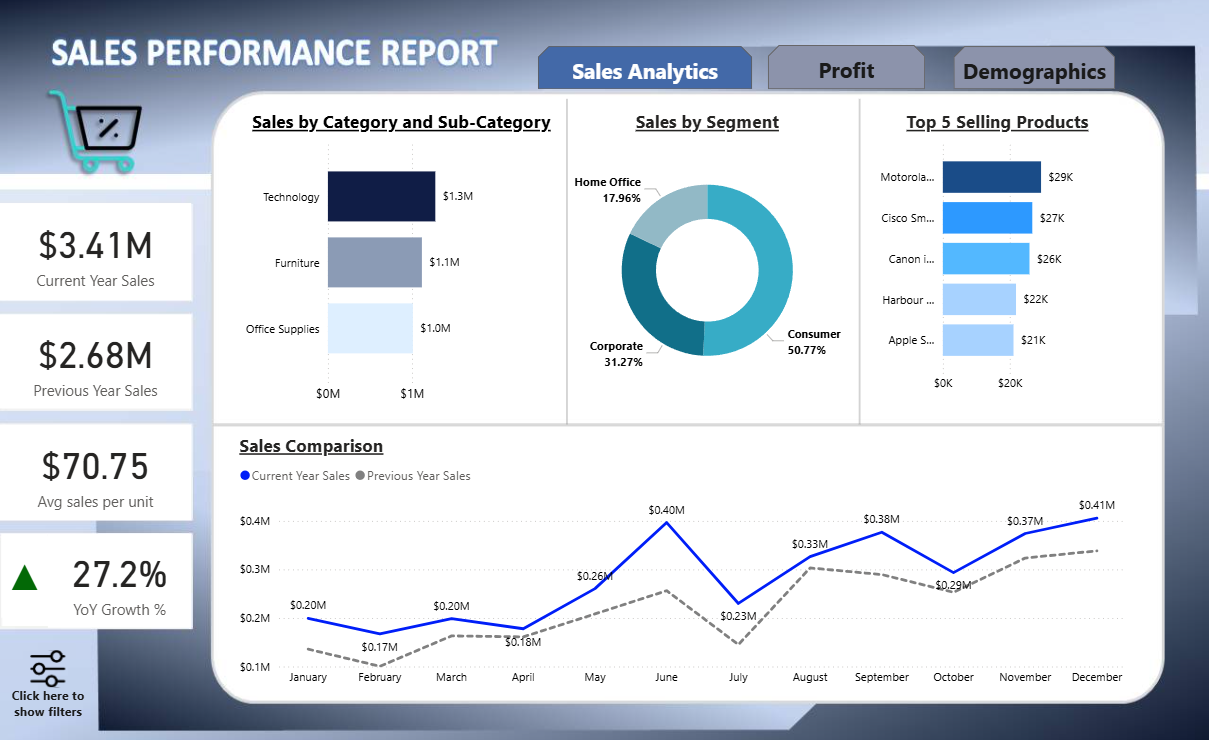

The page's visual inventory and layout, read from the dashboard file:
{"tool":"powerbi","page":{"name":"Sales Analytics","canvas":[1300,800],"ordinal":0},"visuals":[{"type":"card","fields":{"Values":["Calculation.Current Year Sales"]},"box":[0,221.8,205,104.2],"z":0},{"type":"actionButton","box":[0,717.7,36.8,39.5],"z":0,"group":"g1"},{"type":"card","fields":{"Values":["Calculation.Previous Year Sales"]},"box":[0,341.1,205,100.8],"z":1000},{"type":"shape","box":[0,680.9,322.7,108.9],"z":1000,"group":"g1"},{"type":"card","fields":{"Values":["Calculation.Avg sales per unit"]},"box":[0,459.1,205.2,102.6],"z":2000},{"type":"slicer","fields":{"Values":["globalsuperstore.Sub-Category"]},"box":[182.7,736.6,140.3,51.7],"z":2000,"group":"g1"},{"type":"card","fields":{"Values":["Calculation.YoY Growth %"]},"box":[51.7,576,153.9,100.8],"z":3000},{"type":"slicer","fields":{"Values":["globalsuperstore.Segment"]},"box":[182.1,682.3,139.8,53.9],"z":3000,"group":"g1"},{"type":"donutChart","title":" Sales by Segment","fields":{"Category":["globalsuperstore.Segment"],"Y":["Calculation.Total Sales"]},"box":[610.1,121.2,299.6,320],"z":4000},{"type":"slicer","fields":{"Values":["globalsuperstore.Category"]},"box":[43.8,736.6,140.3,51.7],"z":4000,"group":"g1"},{"type":"actionButton","box":[577.4,53.1,230.1,46.3],"z":5000},{"type":"slicer","fields":{"Values":["DateTable.Date.Variation.Date Hierarchy.Year"]},"box":[43.6,682.3,139.8,56.4],"z":5000,"group":"g1"},{"type":"actionButton","box":[825.2,51.7,168.9,47.7],"z":6000},{"type":"actionButton","box":[1024.6,52.9,173.5,46.3],"z":7000},{"type":"clusteredBarChart","title":"Sales by Category and Sub-Category","fields":{"Y":["Calculation.Total Sales"],"Category":["globalsuperstore.Category","globalsuperstore.Sub-Category"]},"box":[251.9,121.2,358.2,324.1],"z":8000},{"type":"lineChart","title":"Sales Comparison","fields":{"Category":["DateTable.Date.Variation.Date Hierarchy.Month"],"Y":["Calculation.Current Year Sales","Calculation.Previous Year Sales"]},"box":[251.9,468.5,962.8,281.9],"z":9000},{"type":"clusteredBarChart","title":"Top 5 Selling Products ","fields":{"Y":["Calculation.Total Sales"],"Category":["globalsuperstore.Product Name"]},"box":[927.4,121.2,287.3,313.2],"z":10000},{"type":"shape","box":[591,108.9,36.8,350],"z":11000},{"type":"shape","box":[909.7,108.9,27.2,350],"z":12000},{"type":"group","id":"g1","title":"Filter Panel","box":[0,680.9,323,108.9],"z":14000},{"type":"card","fields":{"Values":["Calculation.YoY Icon Symbol"]},"box":[1.4,576,50.4,89.9],"z":15000}]}

Visuals, with their boxes in screenshot pixels (x1, y1, x2, y2), scaled from the page's 1300x800 canvas onto the 1209x740 screenshot:
card - Calculation.Current Year Sales: 0:205:191:302
actionButton: 0:664:34:700
card - Calculation.Previous Year Sales: 0:316:191:409
shape: 0:630:300:731
card - Calculation.Avg sales per unit: 0:425:191:520
slicer - globalsuperstore.Sub-Category: 170:681:300:729
card - Calculation.YoY Growth %: 48:533:191:626
slicer - globalsuperstore.Segment: 169:631:299:681
" Sales by Segment" donutChart: 567:112:846:408
slicer - globalsuperstore.Category: 41:681:171:729
actionButton: 537:49:751:92
slicer - DateTable.Date.Variation.Date Hierarchy.Year: 41:631:171:683
actionButton: 767:48:925:92
actionButton: 953:49:1114:92
"Sales by Category and Sub-Category" clusteredBarChart: 234:112:567:412
"Sales Comparison" lineChart: 234:433:1130:694
"Top 5 Selling Products " clusteredBarChart: 862:112:1130:402
shape: 550:101:584:424
shape: 846:101:871:424
"Filter Panel" group: 0:630:300:731
card - Calculation.YoY Icon Symbol: 1:533:48:616
